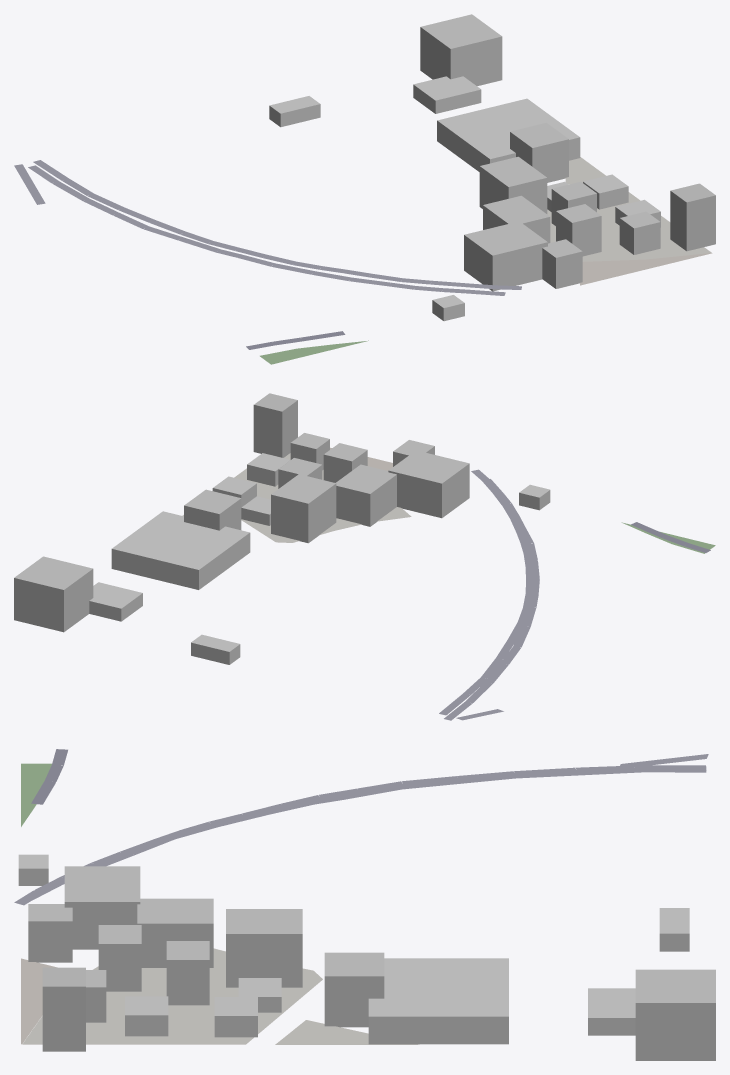
File: 129_88_mid.glb
3 views of the same model, one above another, from view 1: azimuth 30°, elevation 25°; view 2: azimuth 150°, elevation 25°; view 3: azimuth 270°, elevation 25° (orthographic). The views are drawn at different scales.
Size of the model in its own units: 534 by 61.41 by 519.
